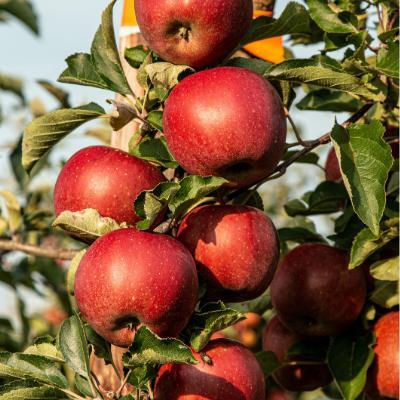apple: (73, 228, 202, 350), (162, 64, 285, 185), (178, 201, 280, 301), (52, 144, 163, 232), (269, 241, 368, 338), (131, 1, 251, 68), (153, 339, 263, 398), (367, 309, 398, 399)
